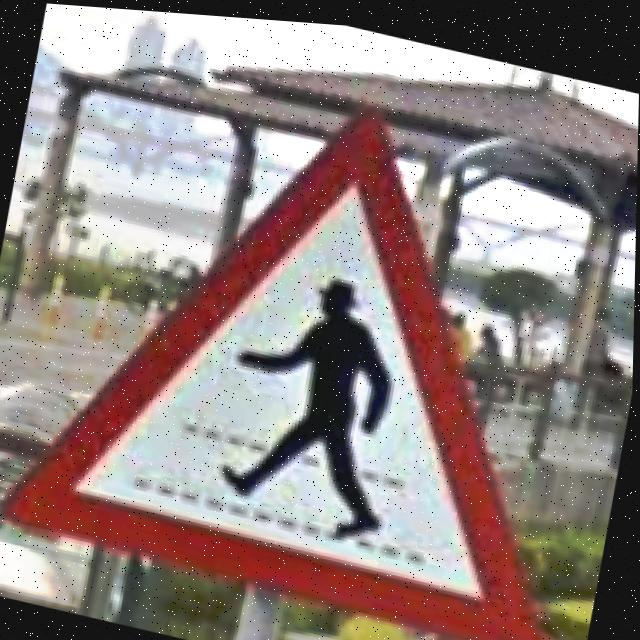pedestriancross: (0, 102, 549, 640)
